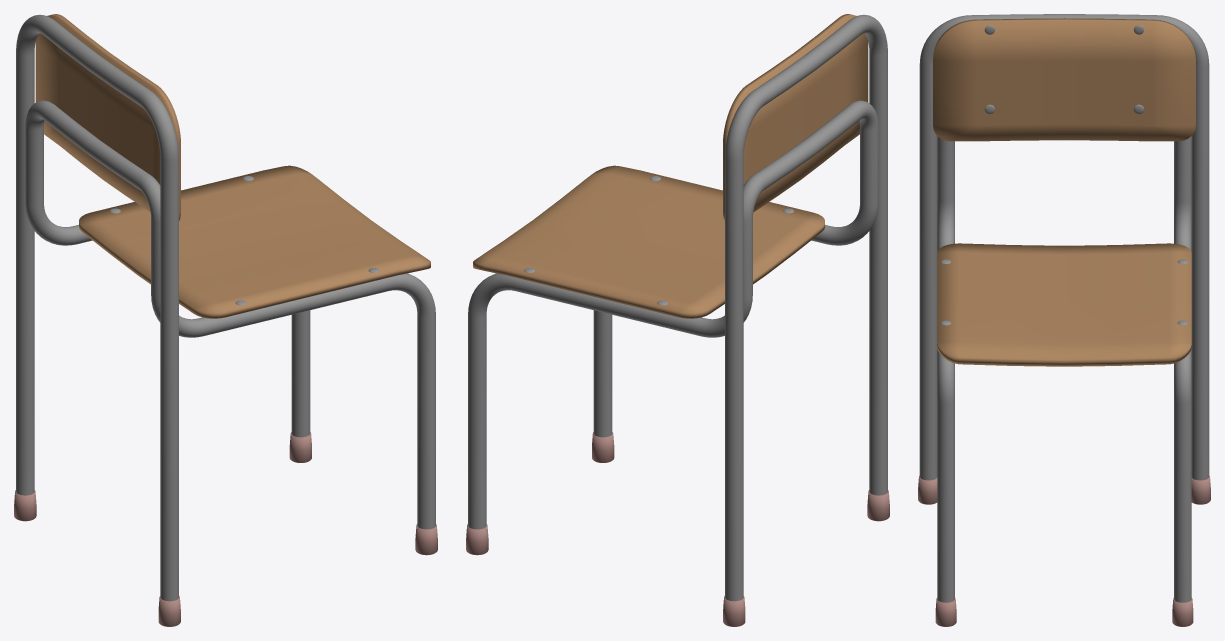
The model's file is school_chair.glb.
The picture shows the model from 3 angles, left to right: view 1: azimuth 30°, elevation 25°; view 2: azimuth 150°, elevation 25°; view 3: azimuth 270°, elevation 25°; orthographic projection. The views are drawn at different scales.
Parts seen in each view (by area): view 1: school_chair_ita, school_chair_pipe_2, school_chair_pipe_1, school_chair_asi; view 2: school_chair_ita, school_chair_pipe_2, school_chair_pipe_1, school_chair_asi; view 3: school_chair_ita, school_chair_pipe_2, school_chair_pipe_1, school_chair_asi, school_chair_kanagu.
Boxes of the visible parts, left/top/right/bottom form: school_chair_ita: left=35, top=14, right=430, bottom=318; school_chair_pipe_2: left=16, top=14, right=178, bottom=601; school_chair_pipe_1: left=25, top=100, right=435, bottom=529; school_chair_asi: left=14, top=432, right=437, bottom=626; school_chair_ita: left=473, top=14, right=868, bottom=318; school_chair_pipe_2: left=725, top=14, right=887, bottom=601; school_chair_pipe_1: left=468, top=100, right=878, bottom=529; school_chair_asi: left=466, top=432, right=889, bottom=626; school_chair_ita: left=933, top=18, right=1195, bottom=366; school_chair_pipe_2: left=919, top=14, right=1209, bottom=480; school_chair_pipe_1: left=937, top=136, right=1191, bottom=602; school_chair_asi: left=918, top=476, right=1210, bottom=626; school_chair_kanagu: left=941, top=25, right=1187, bottom=325.
Bounding box in the file's own units: 0.355 × 0.61 × 0.334.
